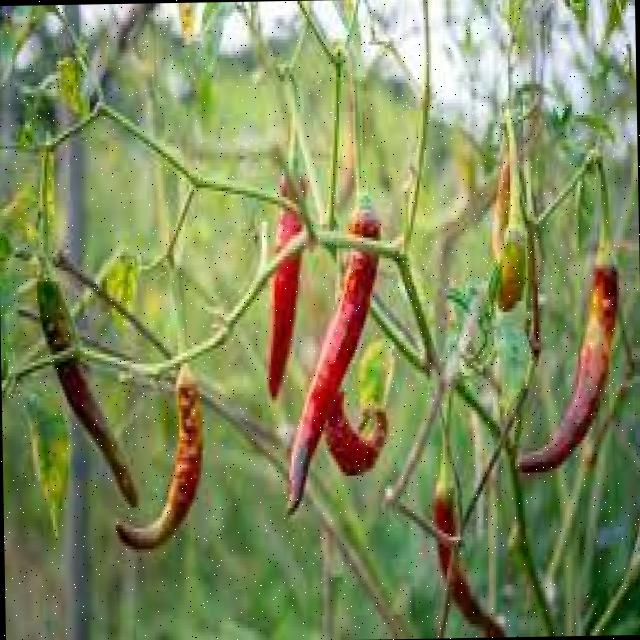chili: (288, 251, 378, 509), (517, 264, 617, 472), (115, 365, 202, 548), (432, 456, 504, 637), (324, 390, 387, 475), (267, 254, 300, 397), (276, 209, 301, 249), (351, 210, 378, 237)
